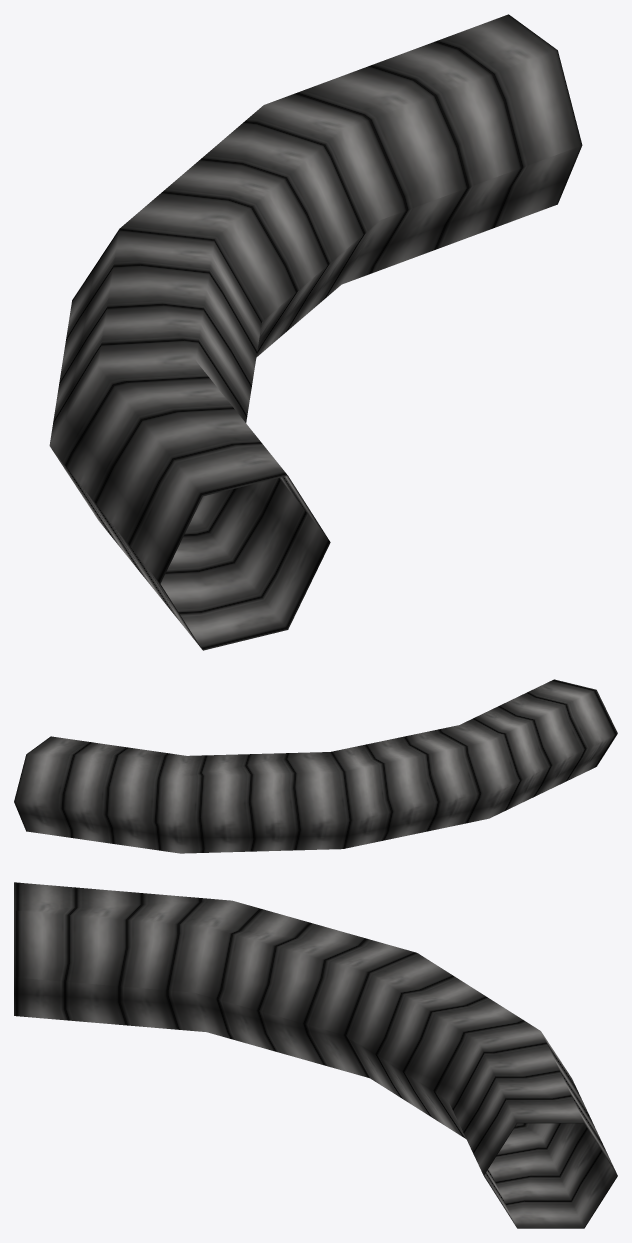
File: small_ribbed_8_elbow_hz.fbx
3 renders of one model, top to bottom at view 1: azimuth 30°, elevation 25°; view 2: azimuth 150°, elevation 25°; view 3: azimuth 270°, elevation 25°, orthographic. The views are drawn at different scales.
Parts seen in each view (by area): view 1: allPipes:pTorus5; view 2: allPipes:pTorus5; view 3: allPipes:pTorus5.
Part boxes in pixels (x1=…): allPipes:pTorus5: x1=49, y1=14, x2=582, y2=650; allPipes:pTorus5: x1=14, y1=679, x2=617, y2=853; allPipes:pTorus5: x1=14, y1=882, x2=617, y2=1228.
Bounding box in the file's own units: 1.13 × 0.2165 × 1.12.
